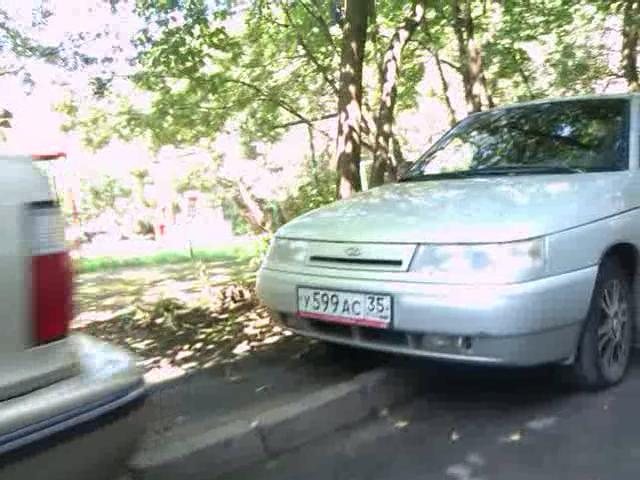car license plate: (296, 284, 396, 328)
